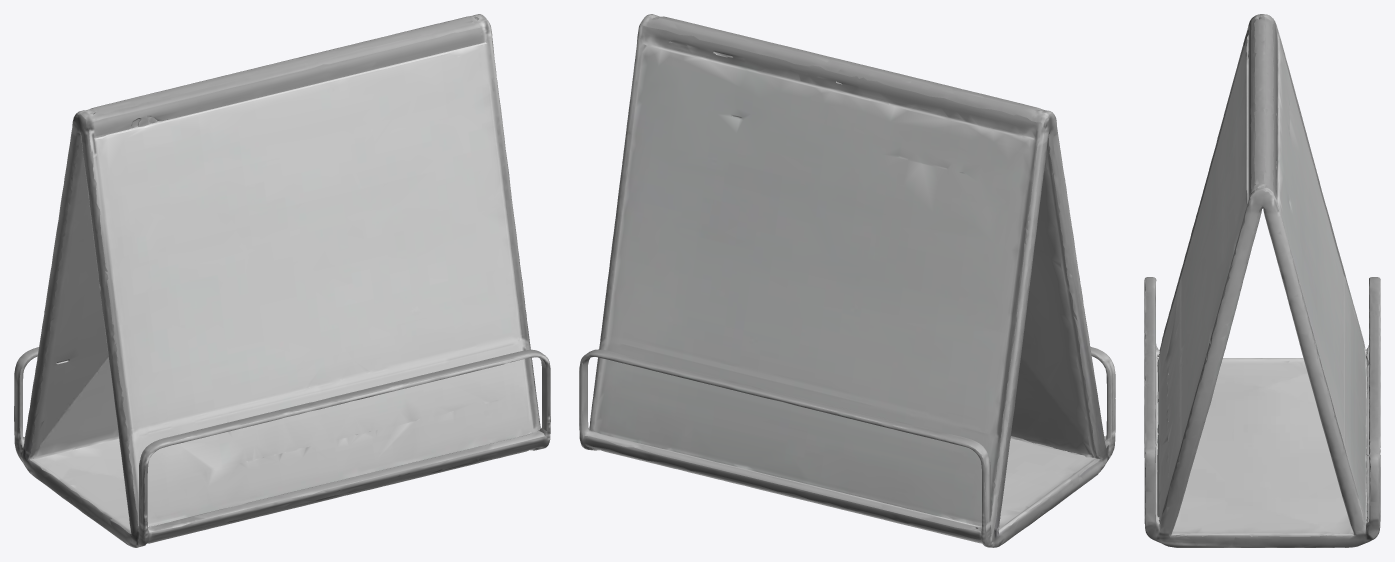
Rendered from aholo-20261119-table-number-card-stand.glb.
The picture shows the model from 3 angles, left to right: view 1: azimuth 30°, elevation 25°; view 2: azimuth 150°, elevation 25°; view 3: azimuth 270°, elevation 25°; orthographic projection. The views are drawn at different scales.
Visible parts, largest first — view 1: geometry_0; view 2: geometry_0; view 3: geometry_0.
Boxes of the visible parts, bbox=[...] form: geometry_0: bbox=[14, 14, 550, 547]; geometry_0: bbox=[579, 14, 1115, 547]; geometry_0: bbox=[1144, 14, 1380, 547].
Size of the model in its own units: 0.21 by 0.197 by 0.1174.
1 material, 1 textured.
